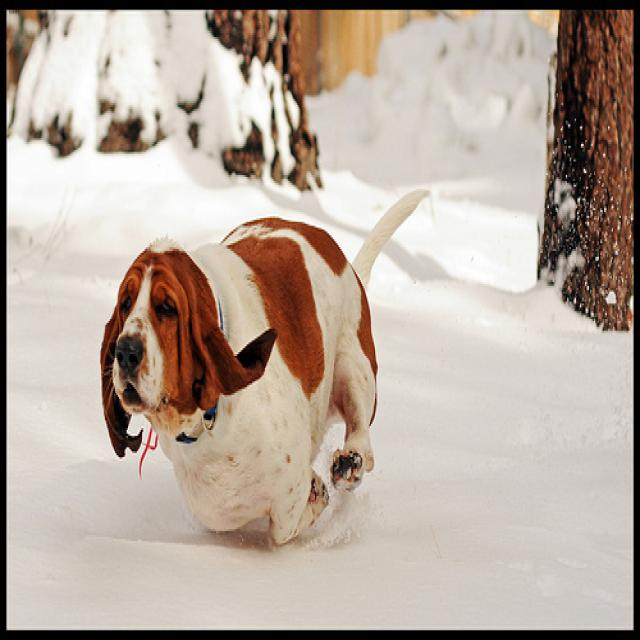dog-basset_hound: (90, 175, 436, 552)
